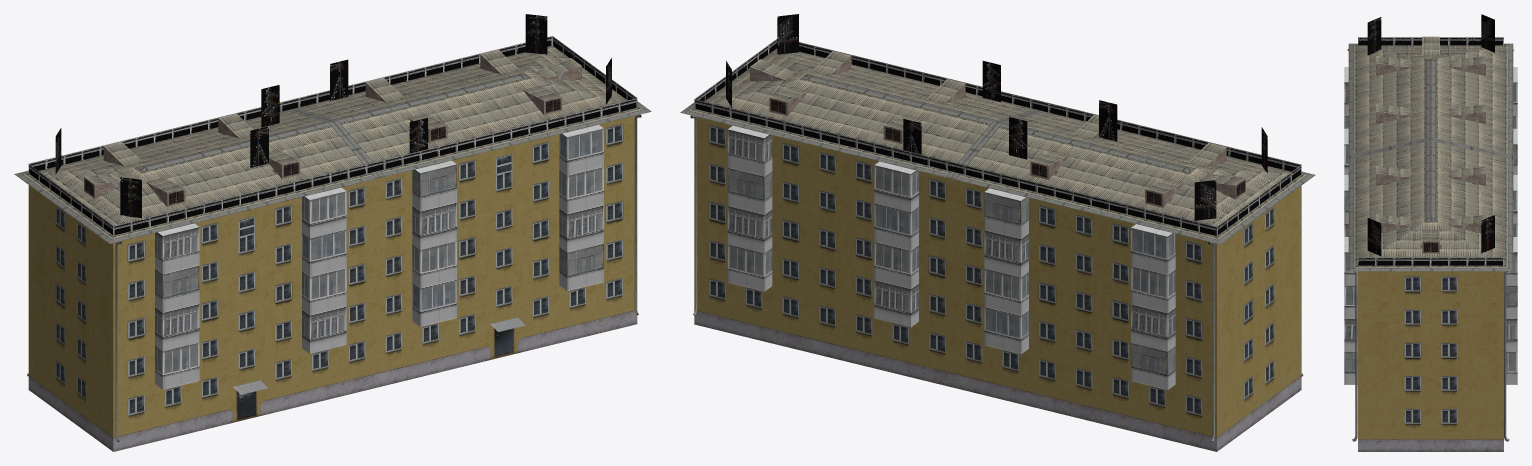
Rendered from rus_build_5et_03f.fbx.
3 views of the same model, side by side, from view 1: azimuth 30°, elevation 25°; view 2: azimuth 150°, elevation 25°; view 3: azimuth 270°, elevation 25° (orthographic). The views are drawn at different scales.
Parts seen in each view (by area): view 1: Regroup13, rus_build_dec_01; view 2: Regroup13, rus_build_dec_01; view 3: Regroup13, rus_build_dec_01.
Boxes of the visible parts, x1,y1,x2,y2 form: Regroup13: [14, 45, 651, 451]; rus_build_dec_01: [28, 14, 637, 235]; Regroup13: [680, 48, 1315, 451]; rus_build_dec_01: [694, 14, 1301, 235]; Regroup13: [1344, 36, 1517, 451]; rus_build_dec_01: [1358, 14, 1503, 265].
Size of the model in its own units: 4130 by 1925 by 1330.
